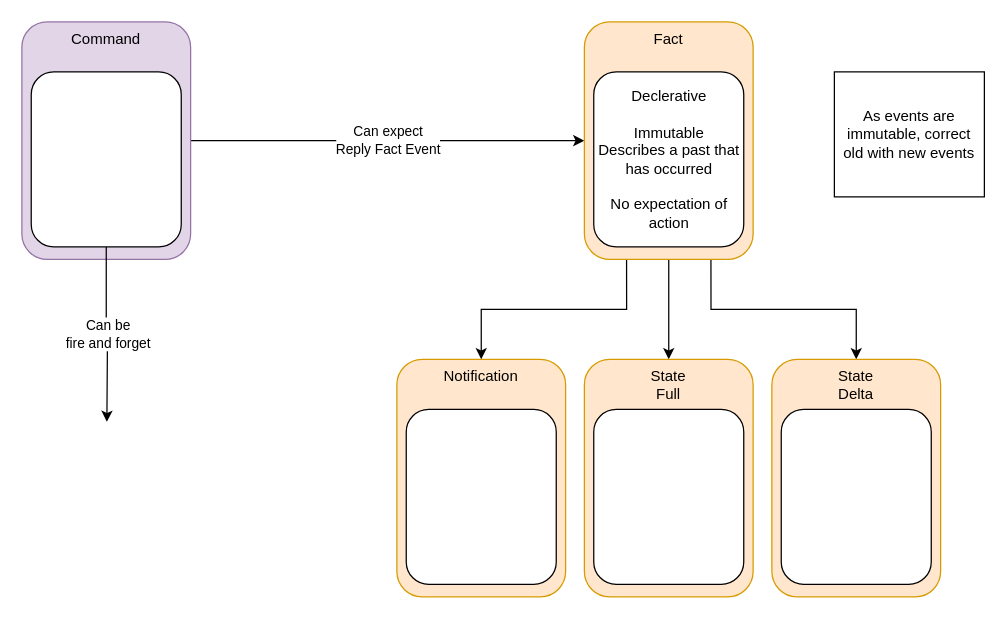
The diagram is 1006 pixels wide and 619 high, and some of its shapes have lost their labels. The centre of each missing label's shape, as x and y in pixels:
Contains changes to model Mutates model shape since last time of Delta emit: [855,496]
Contains the entire model The current shape of model at time of emit: [668,496]
Imperative Can be renamed Can be reshaped Expects action: [105,159]
Very small Declares minimal facts: [480,496]
